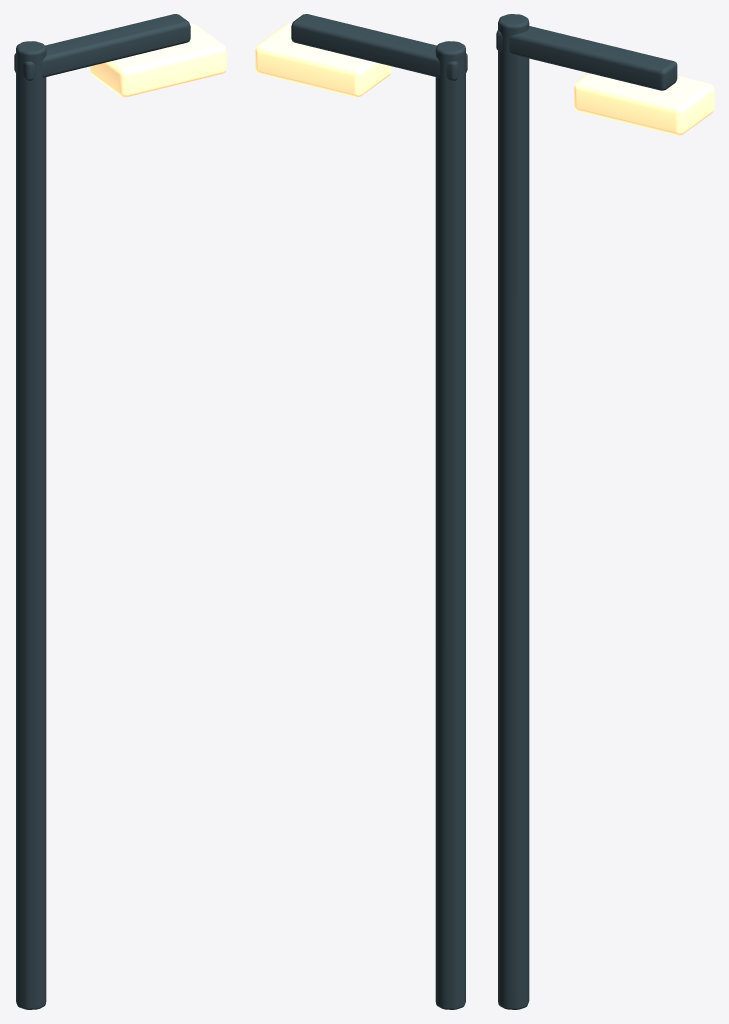
The model's file is lamp.glb.
The picture shows the model from 3 angles, left to right: view 1: azimuth 30°, elevation 25°; view 2: azimuth 150°, elevation 25°; view 3: azimuth 330°, elevation 25°; orthographic projection. The views are drawn at different scales.
Parts seen in each view (by area): view 1: lamp_Lamp_Post, lamp_Lamp_Lantern, lamp_Lamp_Arm; view 2: lamp_Lamp_Post, lamp_Lamp_Lantern, lamp_Lamp_Arm; view 3: lamp_Lamp_Post, lamp_Lamp_Lantern, lamp_Lamp_Arm.
Boxes of the visible parts, <box> form: lamp_Lamp_Post: <box>16,41,46,1009</box>; lamp_Lamp_Lantern: <box>90,23,226,97</box>; lamp_Lamp_Arm: <box>14,14,190,80</box>; lamp_Lamp_Post: <box>435,41,465,1009</box>; lamp_Lamp_Lantern: <box>255,23,391,97</box>; lamp_Lamp_Arm: <box>291,14,467,80</box>; lamp_Lamp_Post: <box>498,14,529,1009</box>; lamp_Lamp_Lantern: <box>574,73,714,135</box>; lamp_Lamp_Arm: <box>496,26,677,90</box>.
Bounding box in the file's own units: 0.7623 × 3.6 × 0.24.
